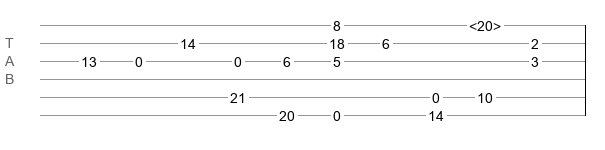0: (135, 54, 143, 64), (234, 54, 242, 64), (333, 108, 341, 118), (432, 90, 440, 100)
10: (477, 90, 493, 100)
13: (81, 54, 97, 64)
14: (180, 36, 196, 46), (428, 108, 444, 118)
18: (329, 36, 345, 46)
2: (531, 36, 539, 46)
20: (279, 108, 295, 118)
21: (230, 90, 246, 100)
3: (531, 54, 539, 64)
5: (333, 54, 341, 64)
6: (283, 54, 291, 64), (382, 36, 390, 46)
8: (333, 18, 341, 28)
harmonic: (469, 18, 501, 28)
